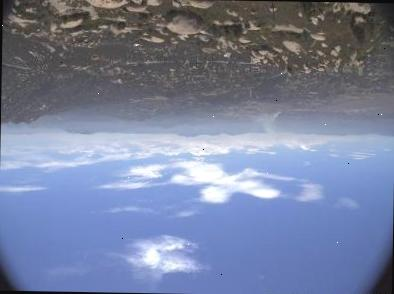smoke: (251, 108, 284, 143)
